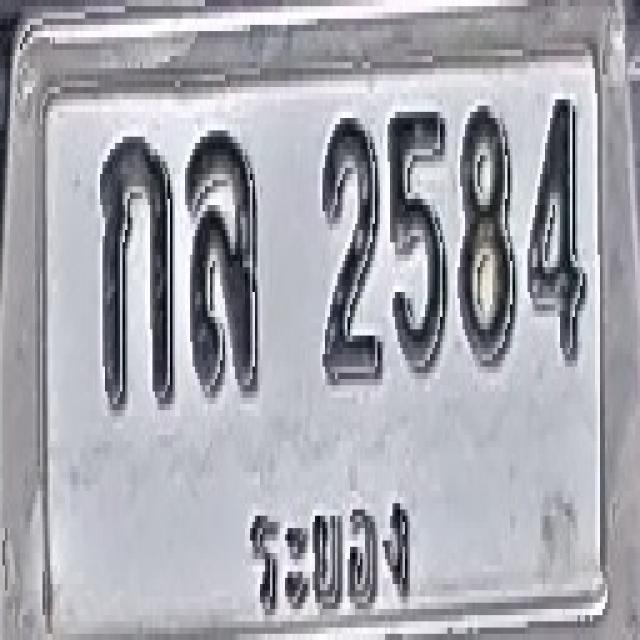2: (322, 115, 382, 382)
4: (527, 96, 585, 364)
5: (389, 105, 446, 372)
8: (458, 100, 514, 366)
A01: (100, 134, 175, 413)
A36: (185, 127, 257, 401)
RYG: (236, 474, 422, 626)
